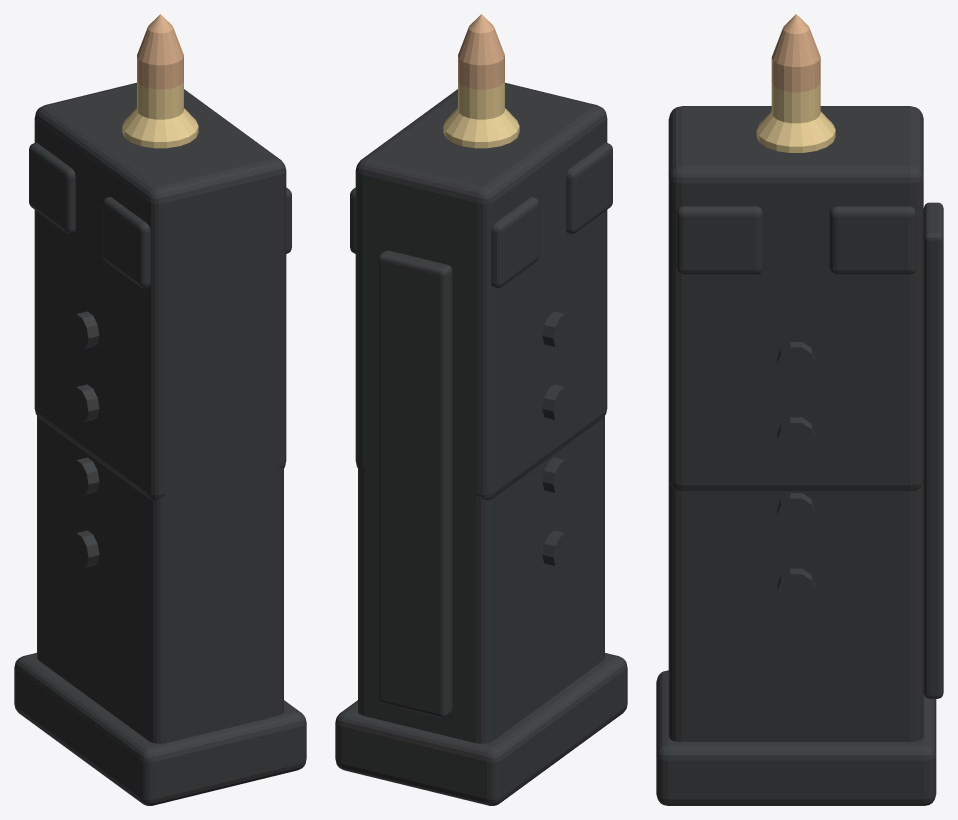
Rendered from mod-service-pistol-magazine-native-magazine.glb.
3 views of the same model, side by side, from view 1: azimuth 30°, elevation 25°; view 2: azimuth 150°, elevation 25°; view 3: azimuth 270°, elevation 25° (orthographic). The views are drawn at different scales.
Size of the model in its own units: 1.23 by 5.34 by 1.78.
